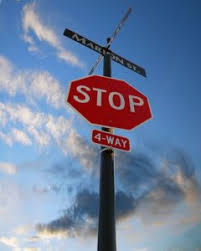SS: (71, 74, 150, 128)
